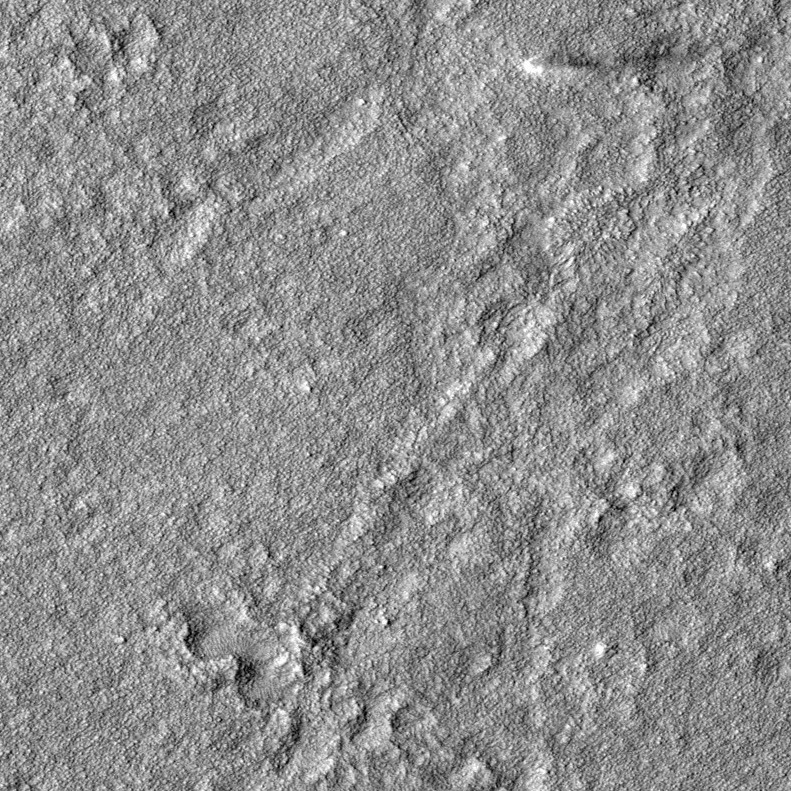dust_devil: (516, 48, 603, 84)
